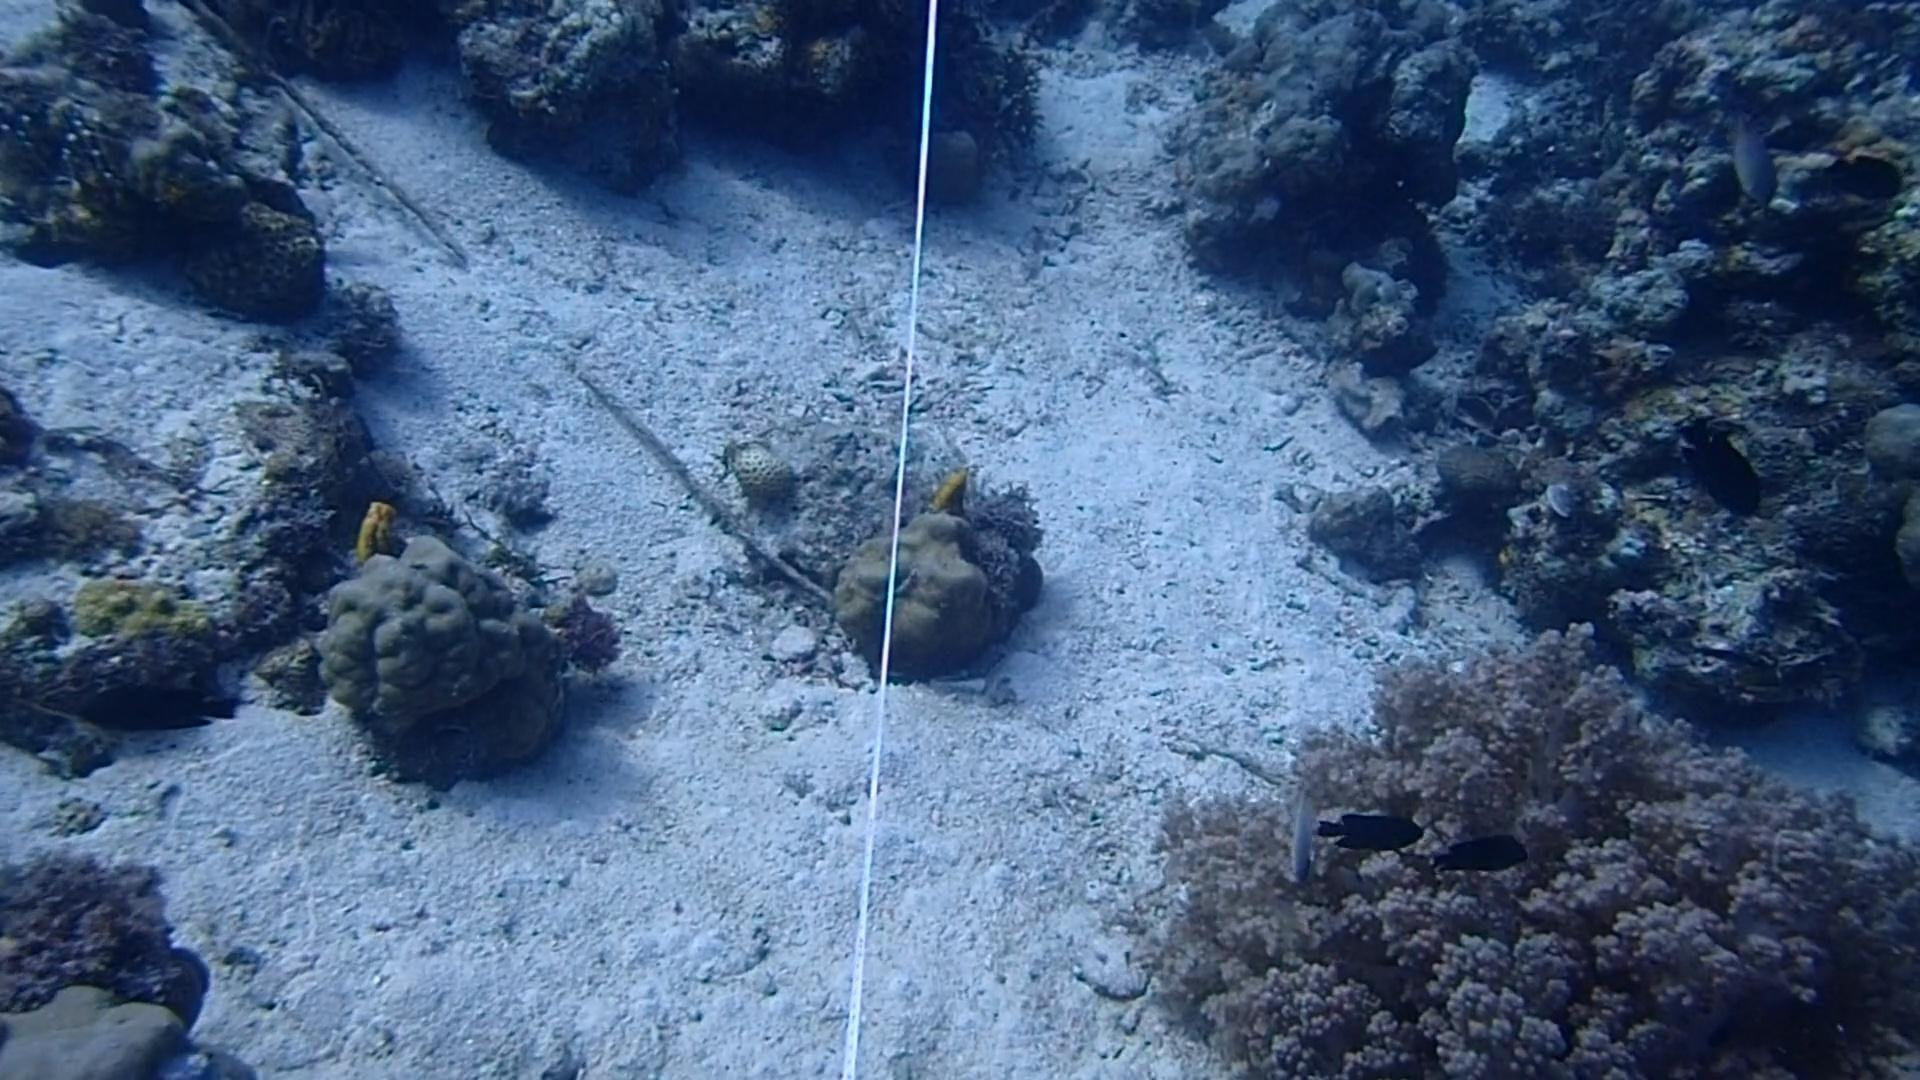Dark Fish: (1671, 417, 1778, 530), (63, 670, 228, 736), (1809, 136, 1917, 218), (1315, 802, 1427, 864), (1414, 825, 1538, 880)
Light Fish: (1718, 103, 1787, 216), (1269, 786, 1337, 893)
